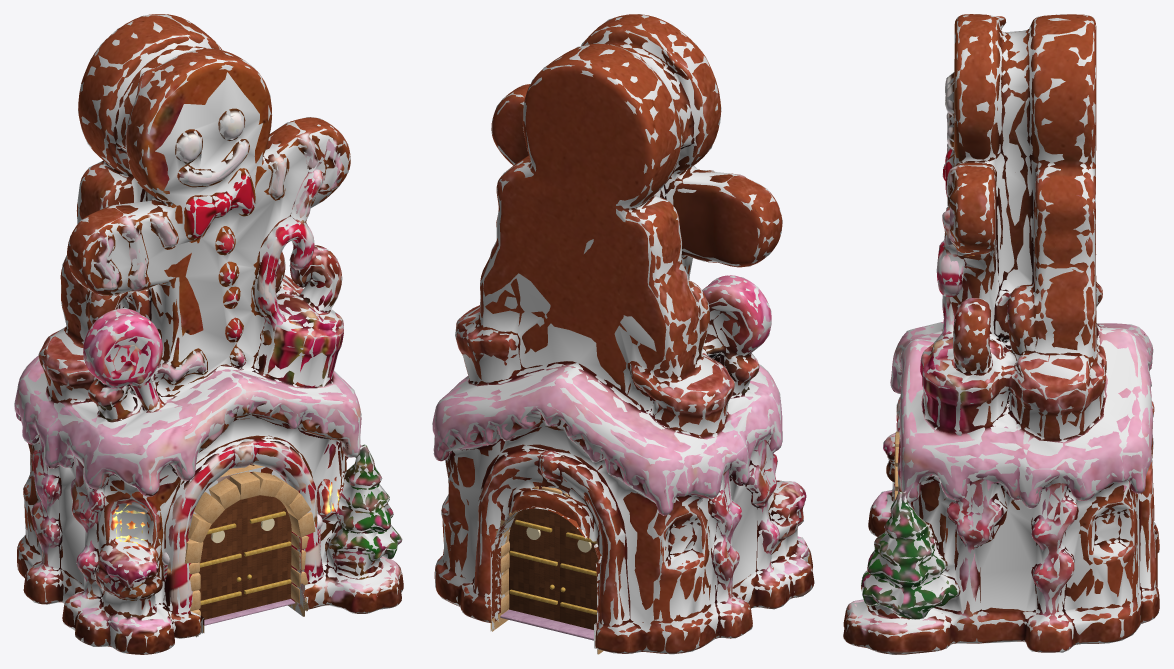
Rendered from GIN_HD_HolidayHideaway.fbx.
3 views of the same model, side by side, from view 1: azimuth 30°, elevation 25°; view 2: azimuth 150°, elevation 25°; view 3: azimuth 270°, elevation 25° (orthographic). The views are drawn at different scales.
Parts seen in each view (by area): view 1: GIN_HD_HolidayHideaway, COL_GIN_HD_HolidayHideaway_Shell, GIN_HD_HolidayHideaway_Frame, GIN_HD_HolidayHideaway_Door_FR, GIN_HD_HolidayHideaway_Door_FL; view 2: GIN_HD_HolidayHideaway, COL_GIN_HD_HolidayHideaway_Shell, GIN_HD_HolidayHideaway_Door_BL, GIN_HD_HolidayHideaway_Door_BR, GIN_HD_HolidayHideaway_Frame; view 3: GIN_HD_HolidayHideaway, COL_GIN_HD_HolidayHideaway_Shell.
Part boxes in pixels (x1=…): GIN_HD_HolidayHideaway: x1=14, y1=14, x2=403, y2=654; COL_GIN_HD_HolidayHideaway_Shell: x1=14, y1=14, x2=403, y2=654; GIN_HD_HolidayHideaway_Frame: x1=161, y1=471, x2=322, y2=625; GIN_HD_HolidayHideaway_Door_FR: x1=236, y1=495, x2=291, y2=610; GIN_HD_HolidayHideaway_Door_FL: x1=198, y1=499, x2=251, y2=619; GIN_HD_HolidayHideaway: x1=432, y1=14, x2=814, y2=654; COL_GIN_HD_HolidayHideaway_Shell: x1=432, y1=14, x2=814, y2=654; GIN_HD_HolidayHideaway_Door_BL: x1=509, y1=508, x2=565, y2=621; GIN_HD_HolidayHideaway_Door_BR: x1=550, y1=515, x2=598, y2=629; GIN_HD_HolidayHideaway_Frame: x1=496, y1=486, x2=601, y2=640; GIN_HD_HolidayHideaway: x1=843, y1=14, x2=1159, y2=654; COL_GIN_HD_HolidayHideaway_Shell: x1=844, y1=14, x2=1159, y2=654.
Size of the model in its own units: 20.09 by 34.74 by 17.67.
